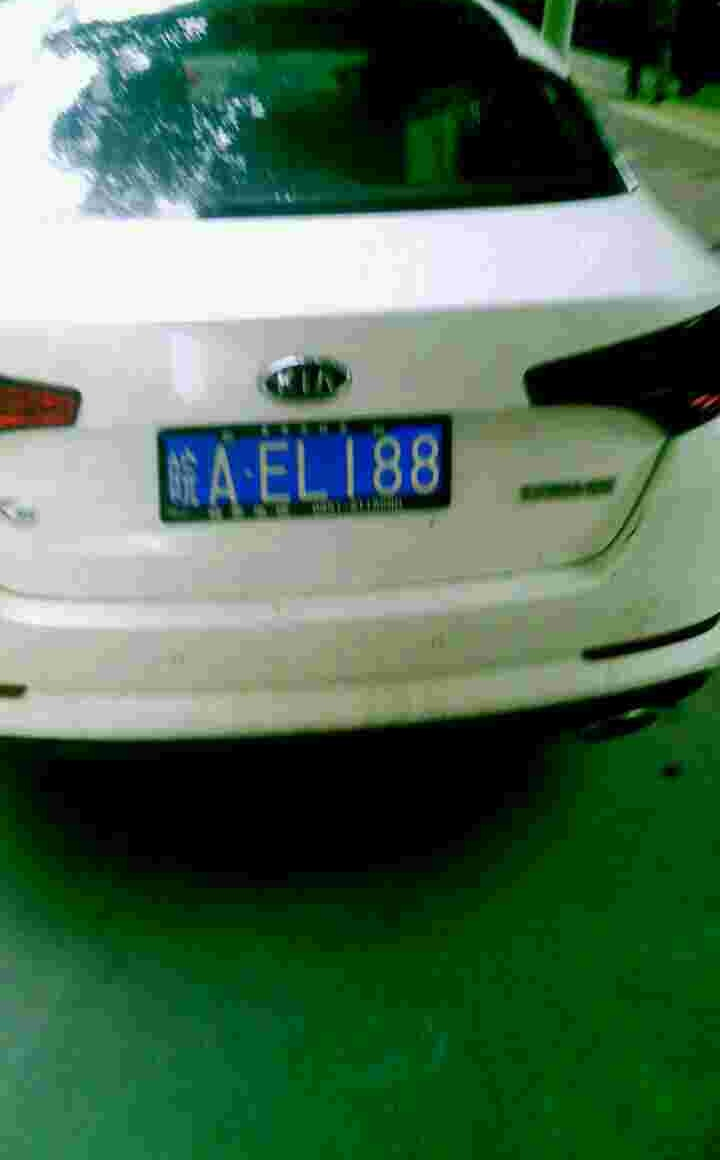license_plate: (158, 424, 446, 519)
